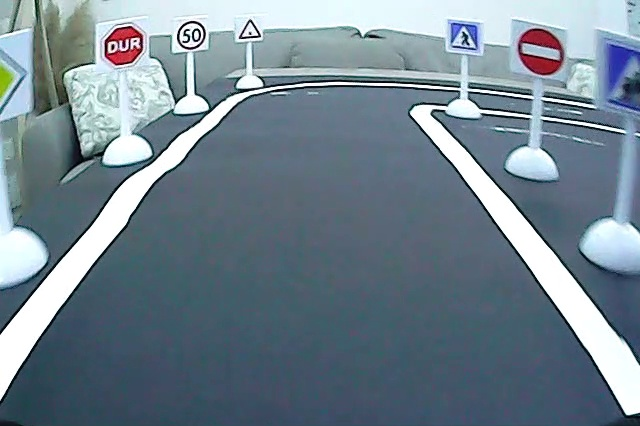do not enter: (514, 22, 569, 78)
green light: (236, 16, 263, 42)
pedestrian crossing: (449, 18, 481, 53)
speed limit 50: (174, 18, 209, 50)
stop sign: (101, 20, 148, 69)
